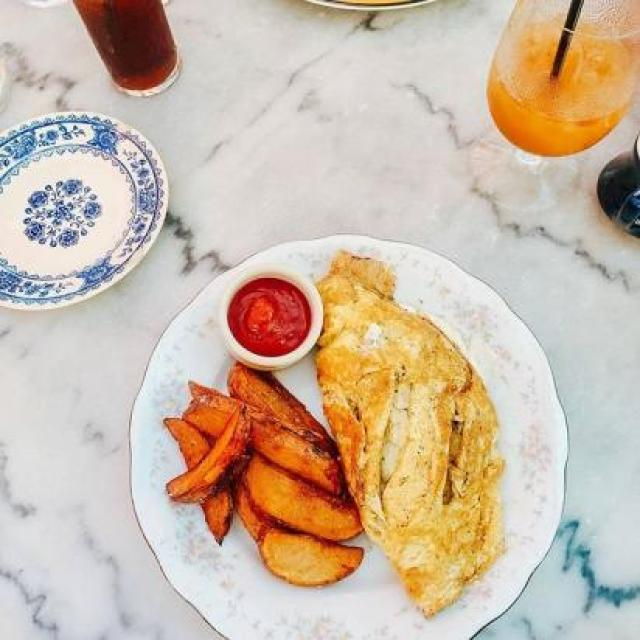omelette: (285, 244, 566, 606)
